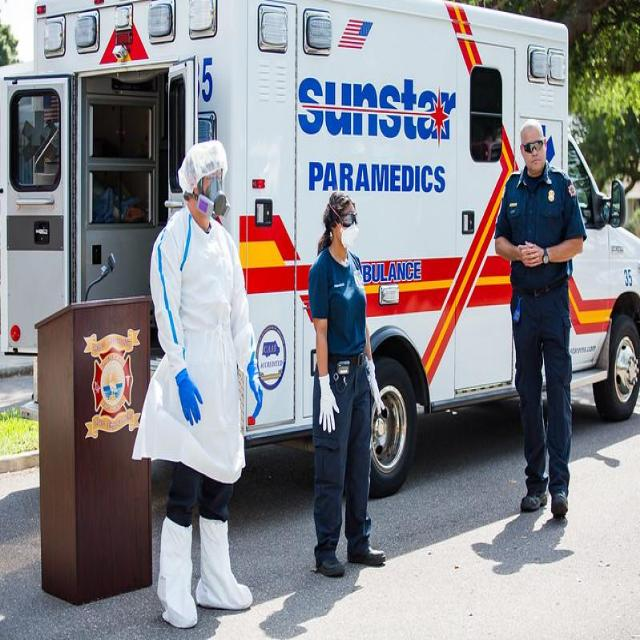Coverall: (148, 138, 265, 633)
Gloves: (316, 374, 342, 440), (175, 366, 204, 425), (245, 354, 269, 417), (366, 358, 387, 419)
Goggles: (338, 208, 361, 227)
Mask: (338, 222, 364, 253)
